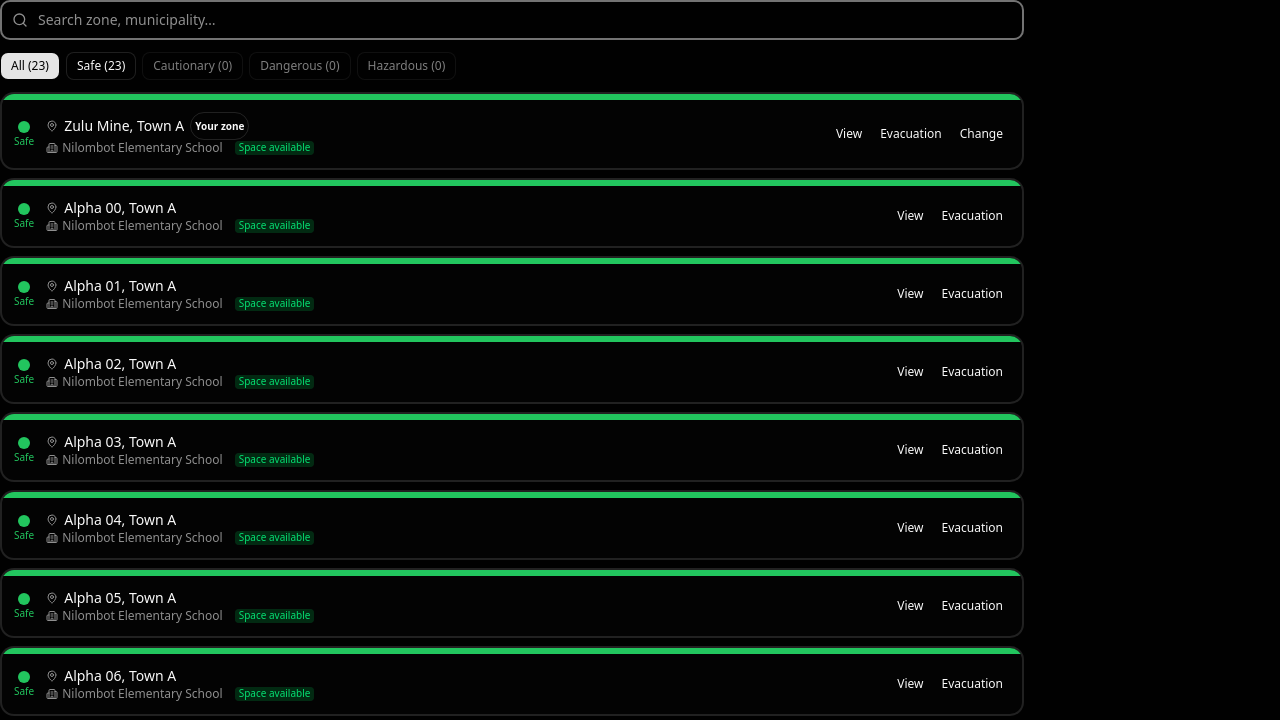
it: ZoneMap card actions (the barangay on the card, not your own) › keeps the change dialog open while the list re-ranks around the new barangay
Click the button with aria-label "change my barangay".
click(981, 134)  # box left=953, top=122, right=1010, bottom=146
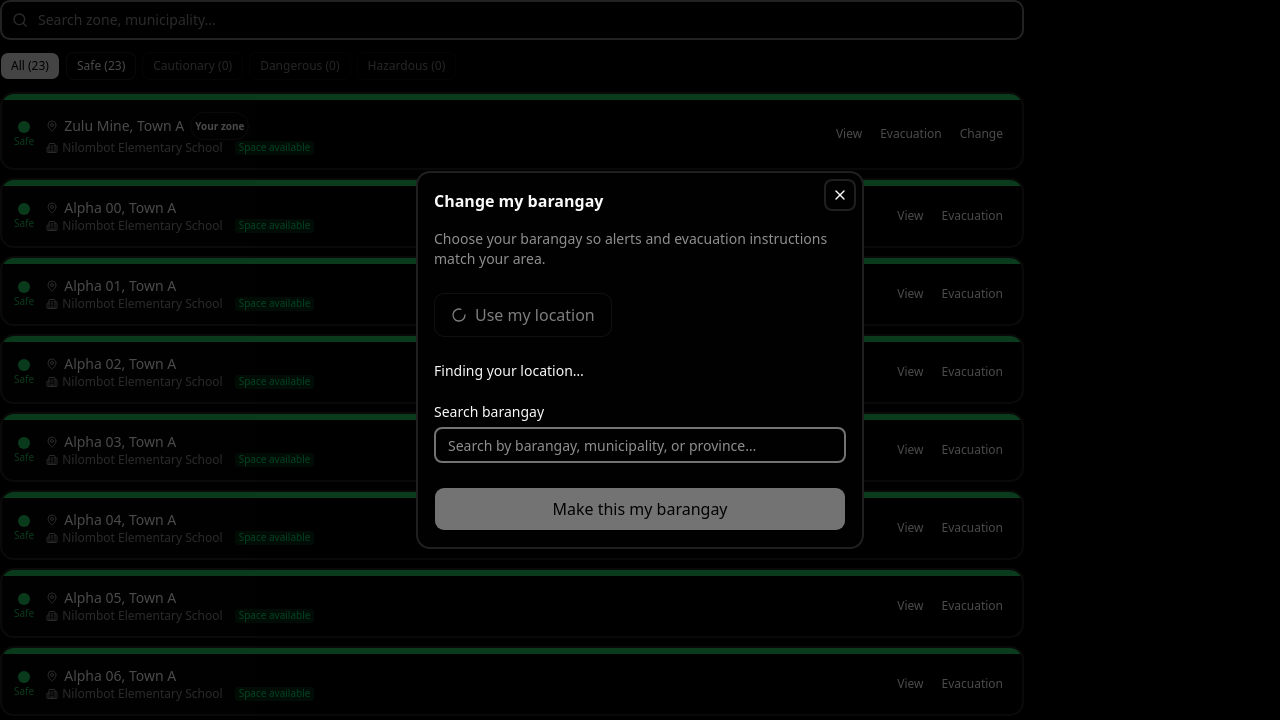
Type "Bravo" into the field labelled "Search barangay".
click(640, 445); type("Bravo")  # box left=434, top=427, right=846, bottom=463
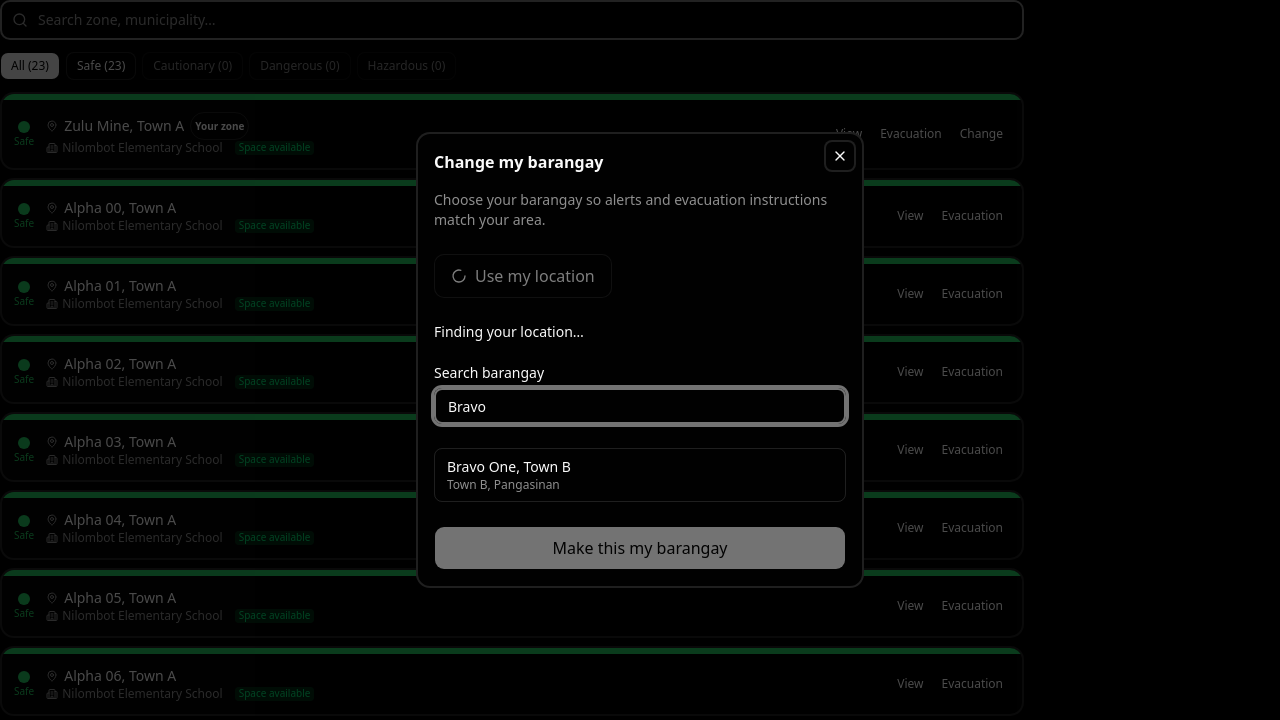
Press the mouse on the option "Bravo One, Town B Town B, Pangasinan" at (509, 466), box left=435, top=449, right=845, bottom=501
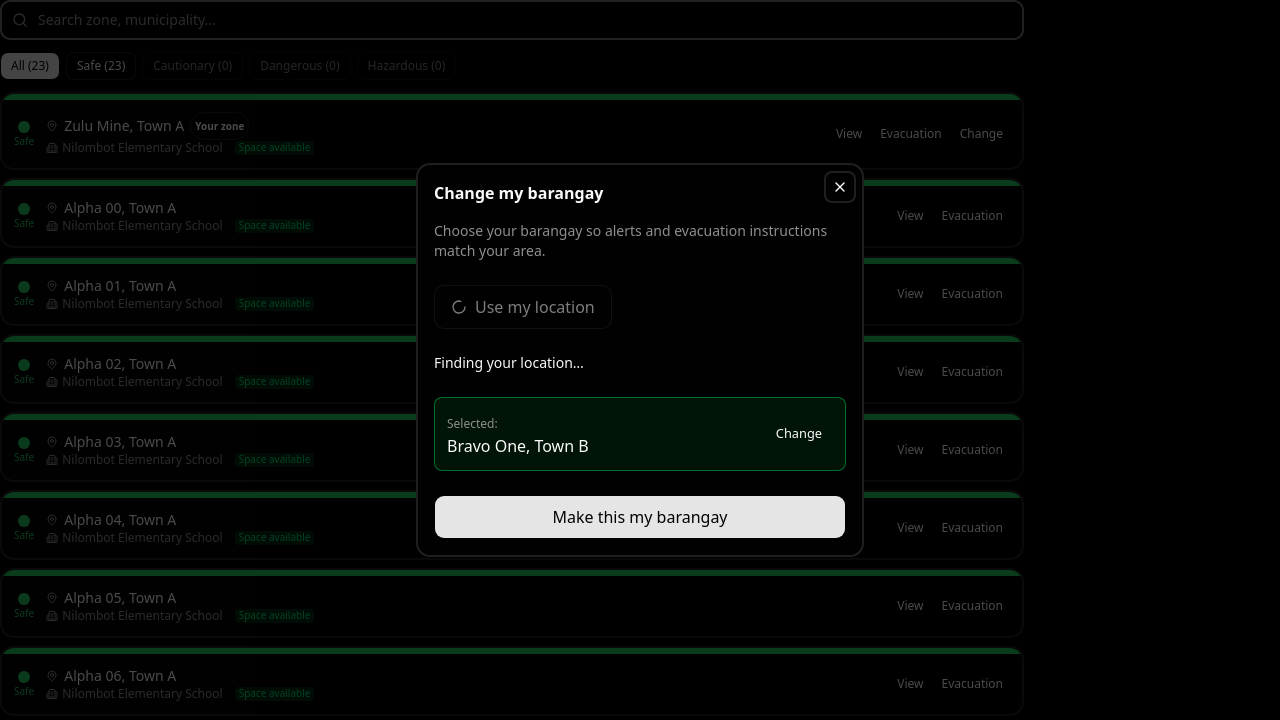
Click the button "Make this my barangay".
click(640, 517)  # box left=434, top=495, right=846, bottom=539
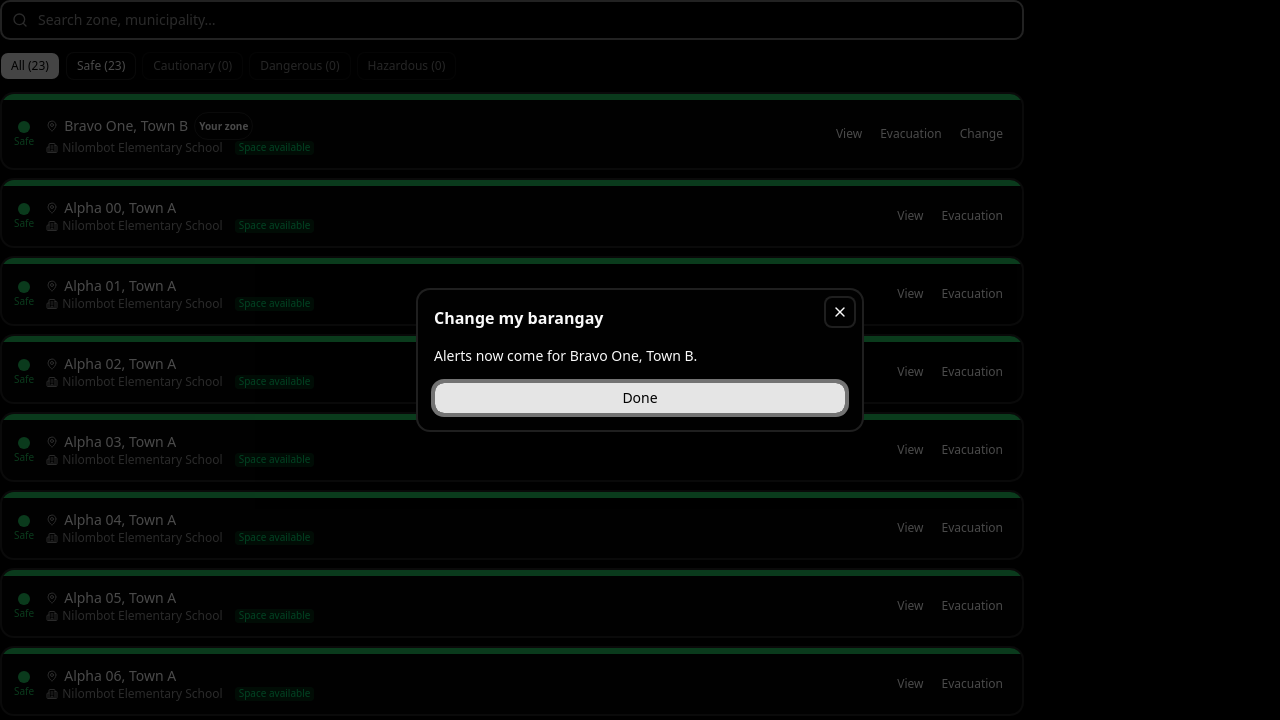
Expected: the text "Alerts now come for Bravo One, Town B." is shown, left=434, top=346, right=697, bottom=365
